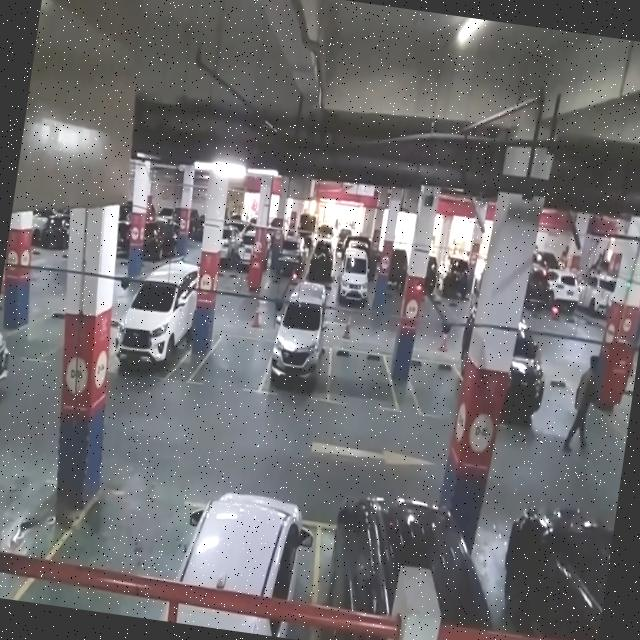empty: (54, 479, 198, 597), (192, 326, 272, 395), (324, 336, 397, 411), (404, 356, 466, 422)
occupied: (182, 492, 324, 610), (109, 274, 198, 386), (263, 308, 337, 404)
